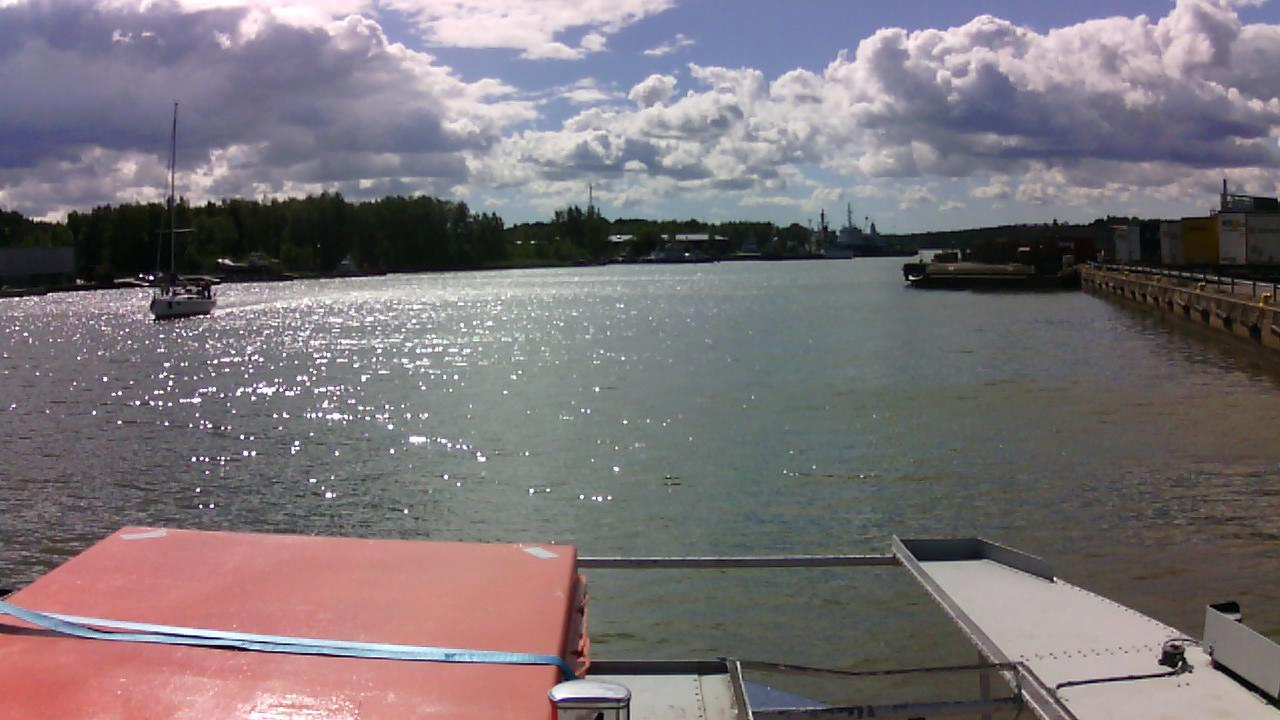Ship: (150, 103, 221, 322)
